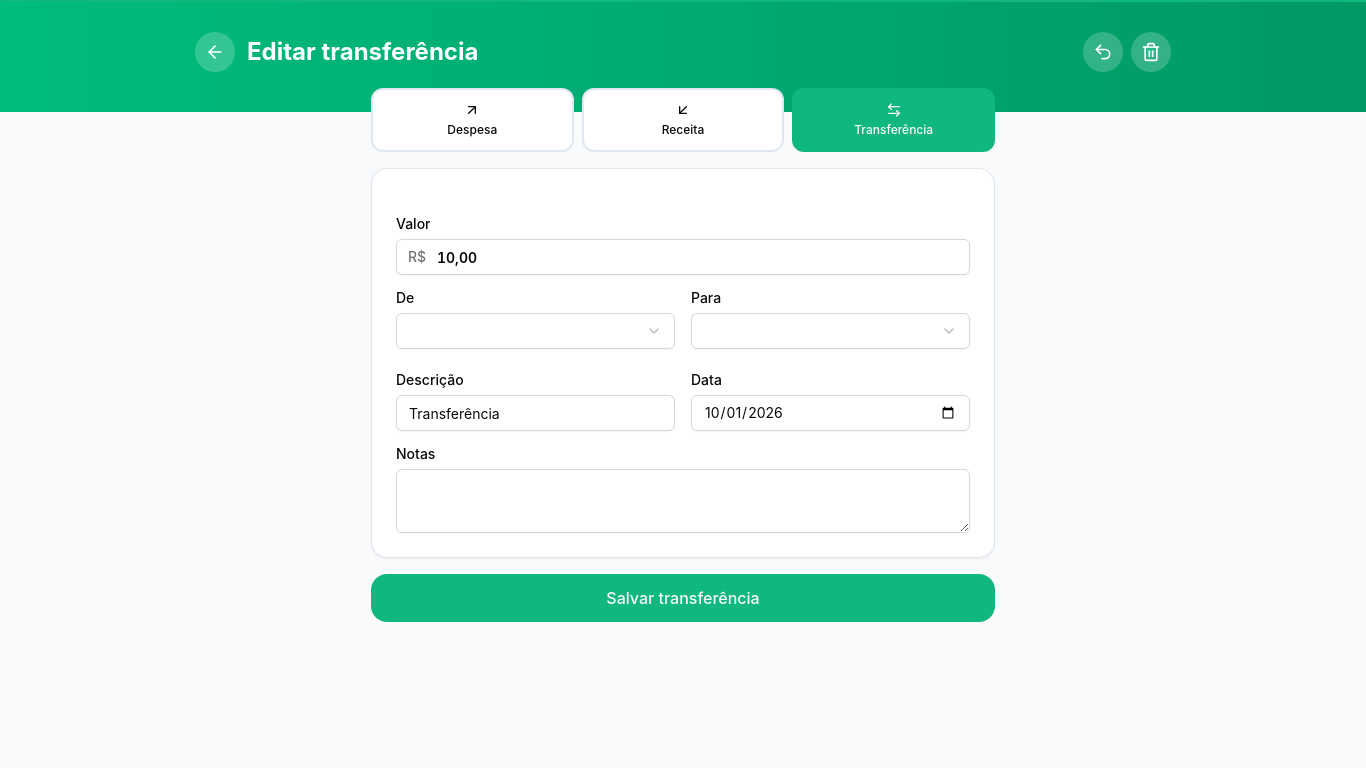
Test: TransactionFormPage › transferência com a outra perna comum: excluir avisa que as duas pernas somem
This screenshot has width=1366, height=768.
Click the button named "Excluir".
click(1151, 52)  # box [1131,32,1171,72]
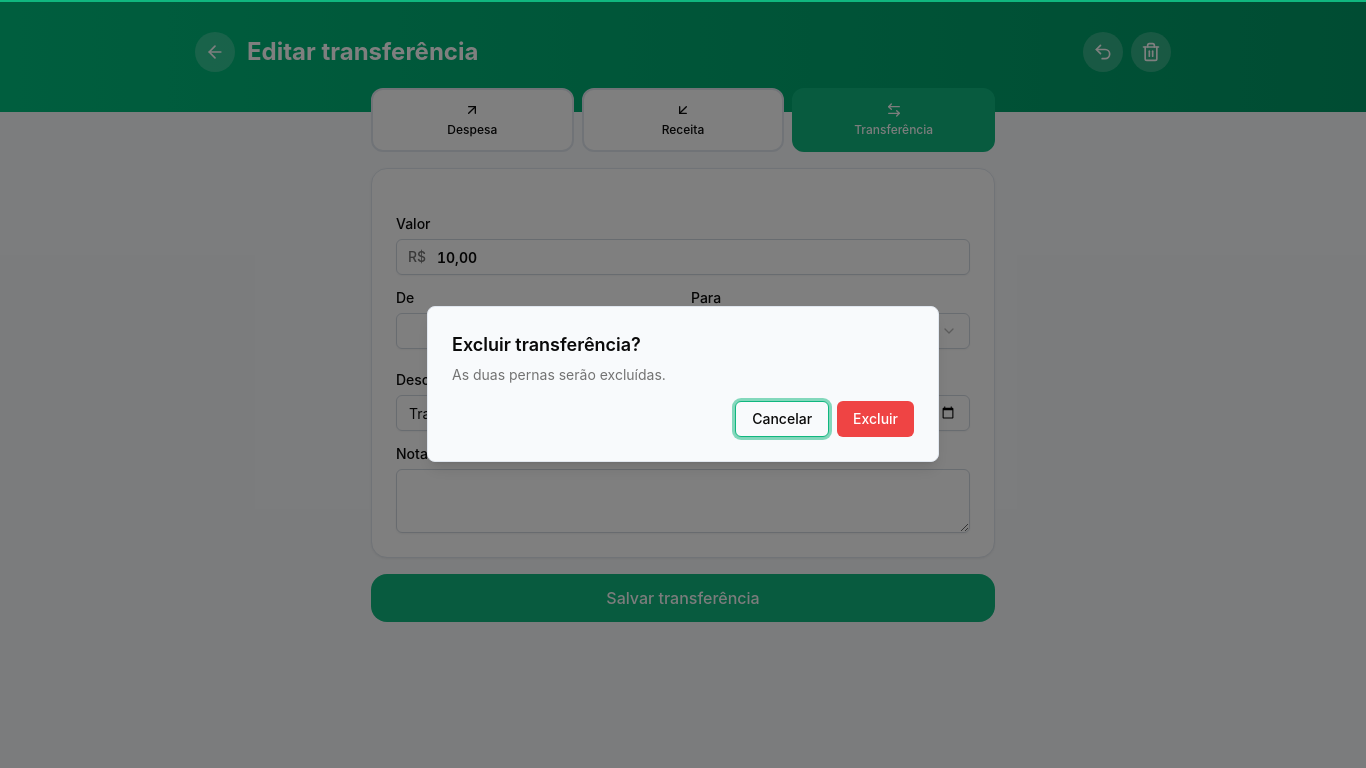
Check: the text "As duas pernas serão excluídas." is shown, box [452,365,666,385]
